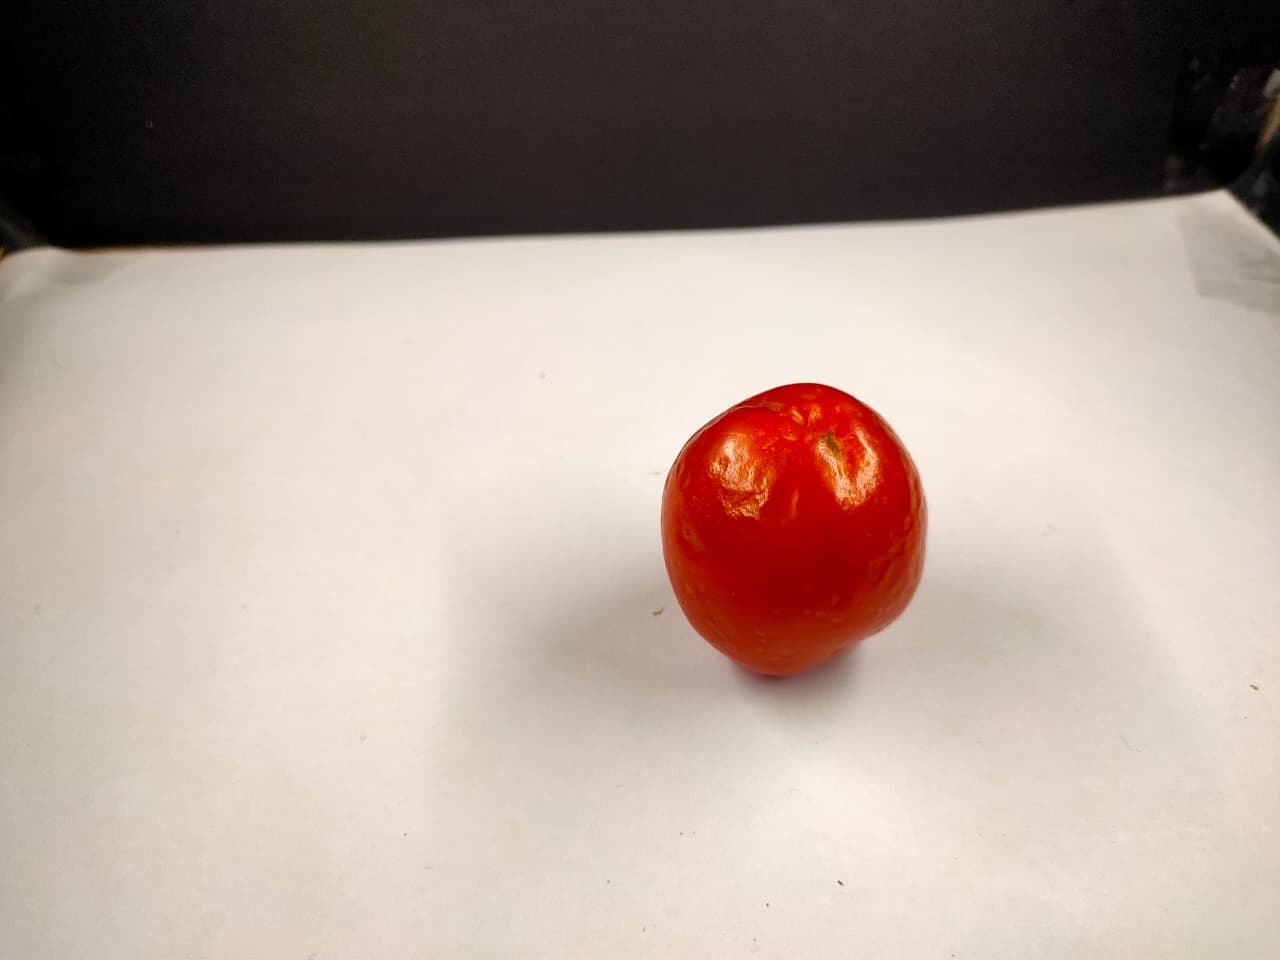damaged: (634, 389, 947, 679)
